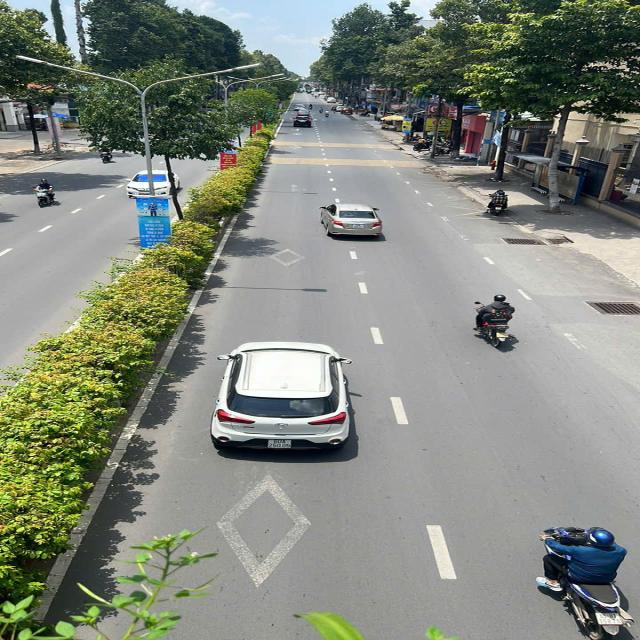car: (216, 342, 362, 460), (317, 203, 397, 247), (291, 115, 313, 128), (342, 108, 354, 115), (293, 104, 306, 110), (297, 110, 312, 115)
motobyte: (546, 522, 637, 640), (477, 295, 513, 349), (30, 173, 62, 210), (489, 192, 510, 219), (318, 107, 324, 114), (325, 110, 329, 118), (309, 103, 313, 110)
